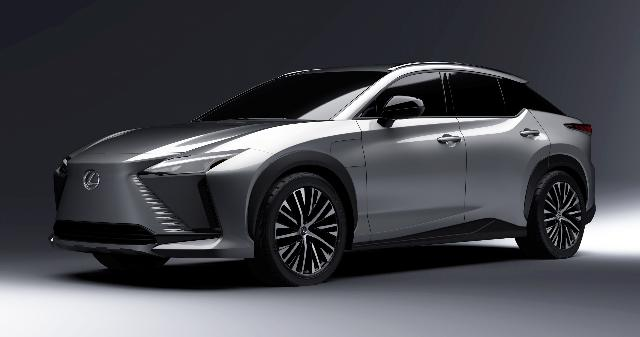lexus: (49, 61, 596, 284)
